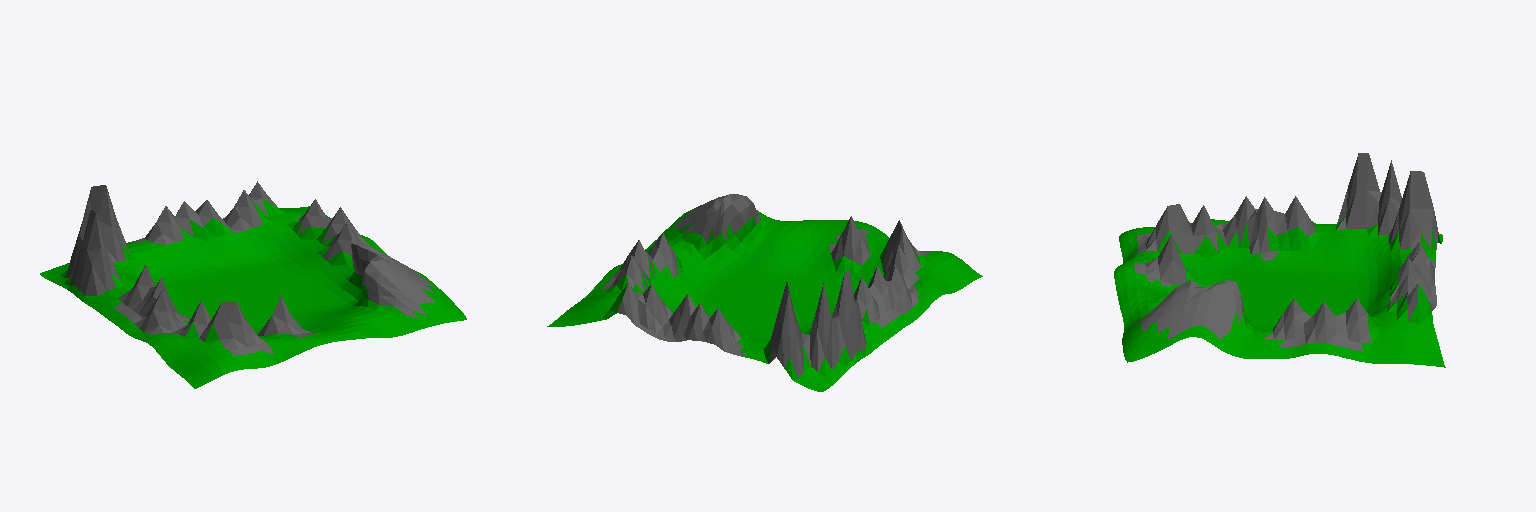
Rendered from testscene2.obj.
The picture shows the model from 3 angles: view 1: azimuth 30°, elevation 25°; view 2: azimuth 150°, elevation 25°; view 3: azimuth 270°, elevation 25°; orthographic projection.
Parts seen in each view (by area): view 1: Plane; view 2: Plane; view 3: Plane.
Boxes of the visible parts, x1,y1,x2,y2 form: Plane: [40, 181, 466, 388]; Plane: [547, 194, 982, 391]; Plane: [1114, 153, 1445, 367].
Bounding box in the file's own units: 38.08 × 11.61 × 39.42.